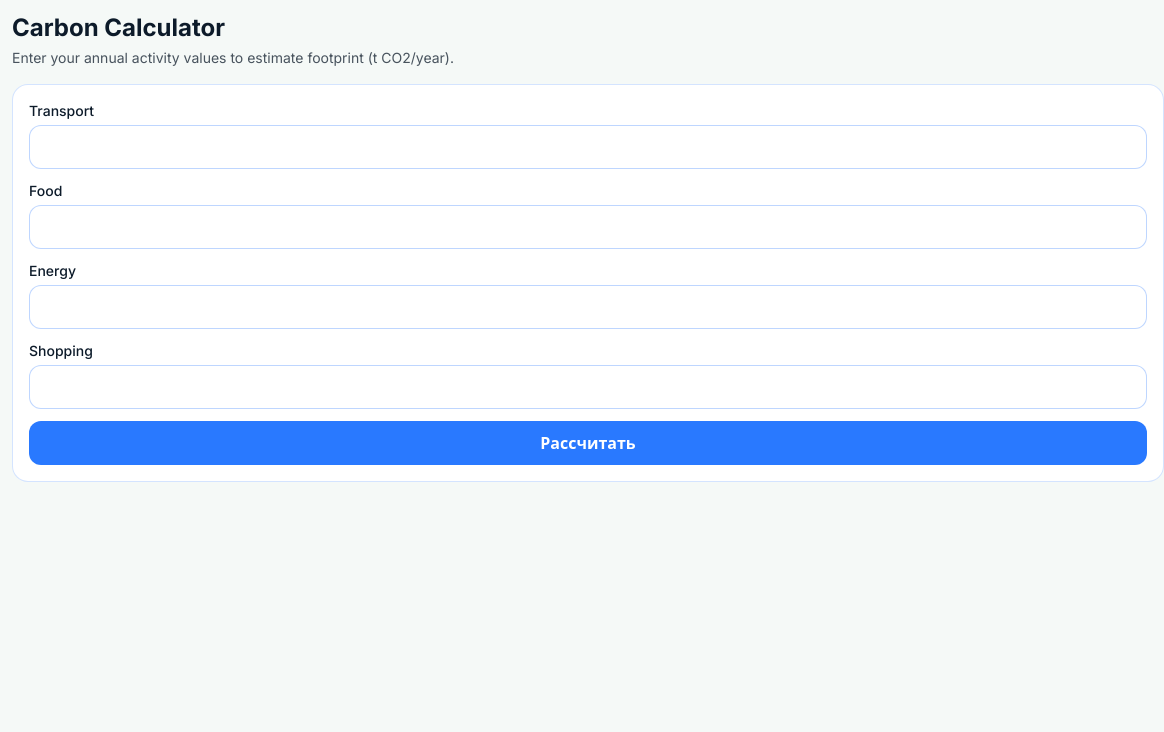
it: Calculator › shows error state when any input is negative
The image size is (1164, 732).
Type "-1" into the number field labelled "Transport" at (588, 147), box [29,125,1147,169]
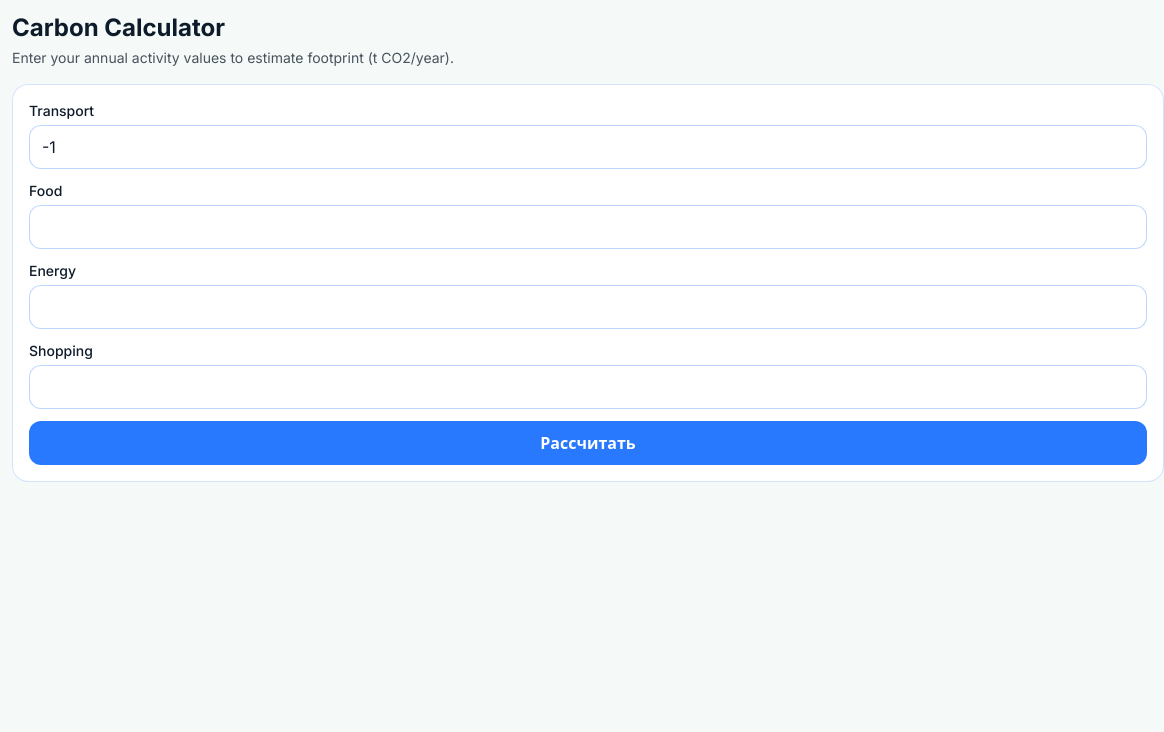
Click the button "Рассчитать" at (588, 443), box [29,421,1147,465]
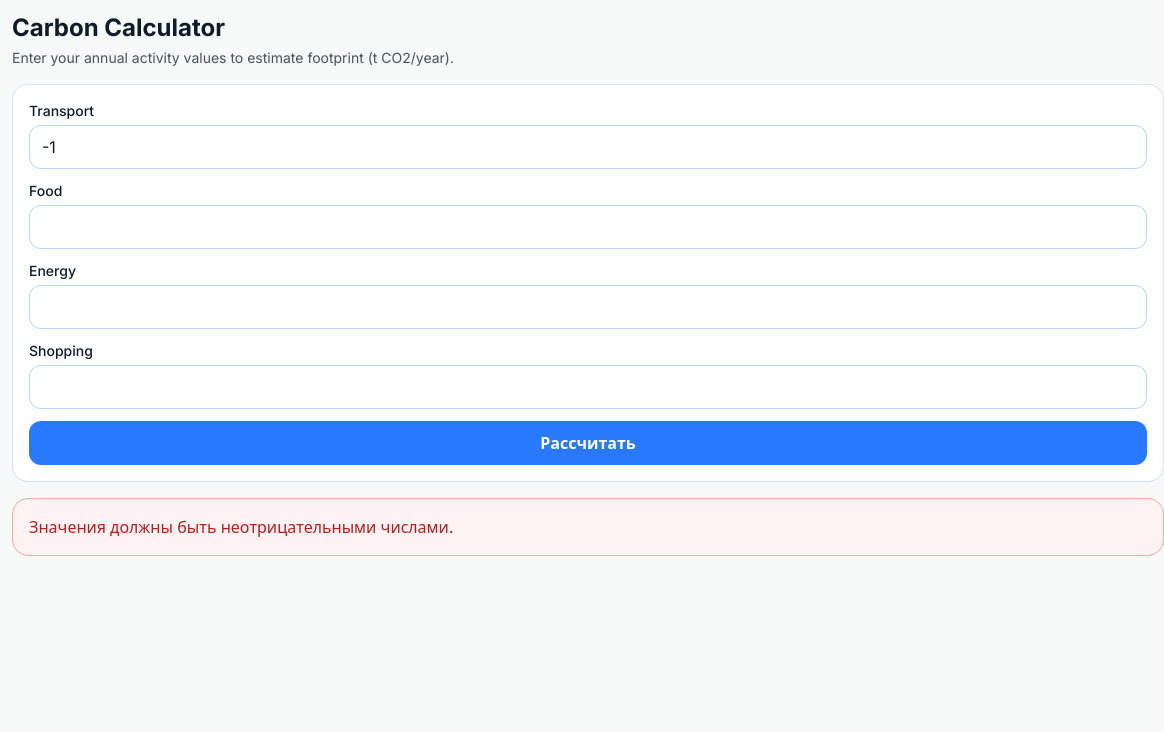
Result: the text "Значения должны быть неотрицательными числами." is shown at [29,517,454,537]
